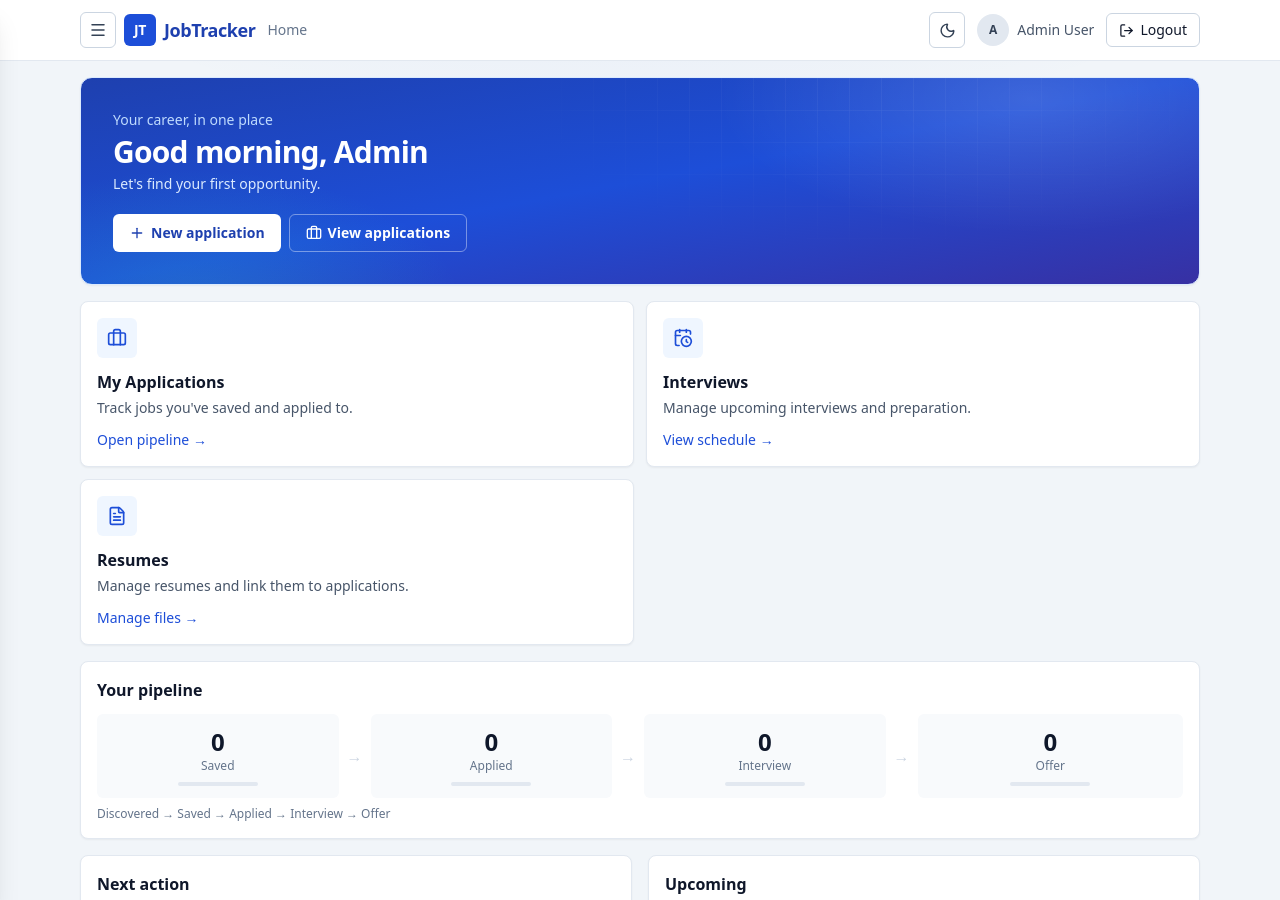
Test: auth-gated routing › offers a theme toggle in the header that persists
Expected: the heading "Good morning, Admin" is shown, [113, 131, 428, 172]
What coordinates should you click on to do the following:
click the button named "Switch to dark theme"
I would click on:
 (947, 30)
Its box is [929, 12, 965, 48].
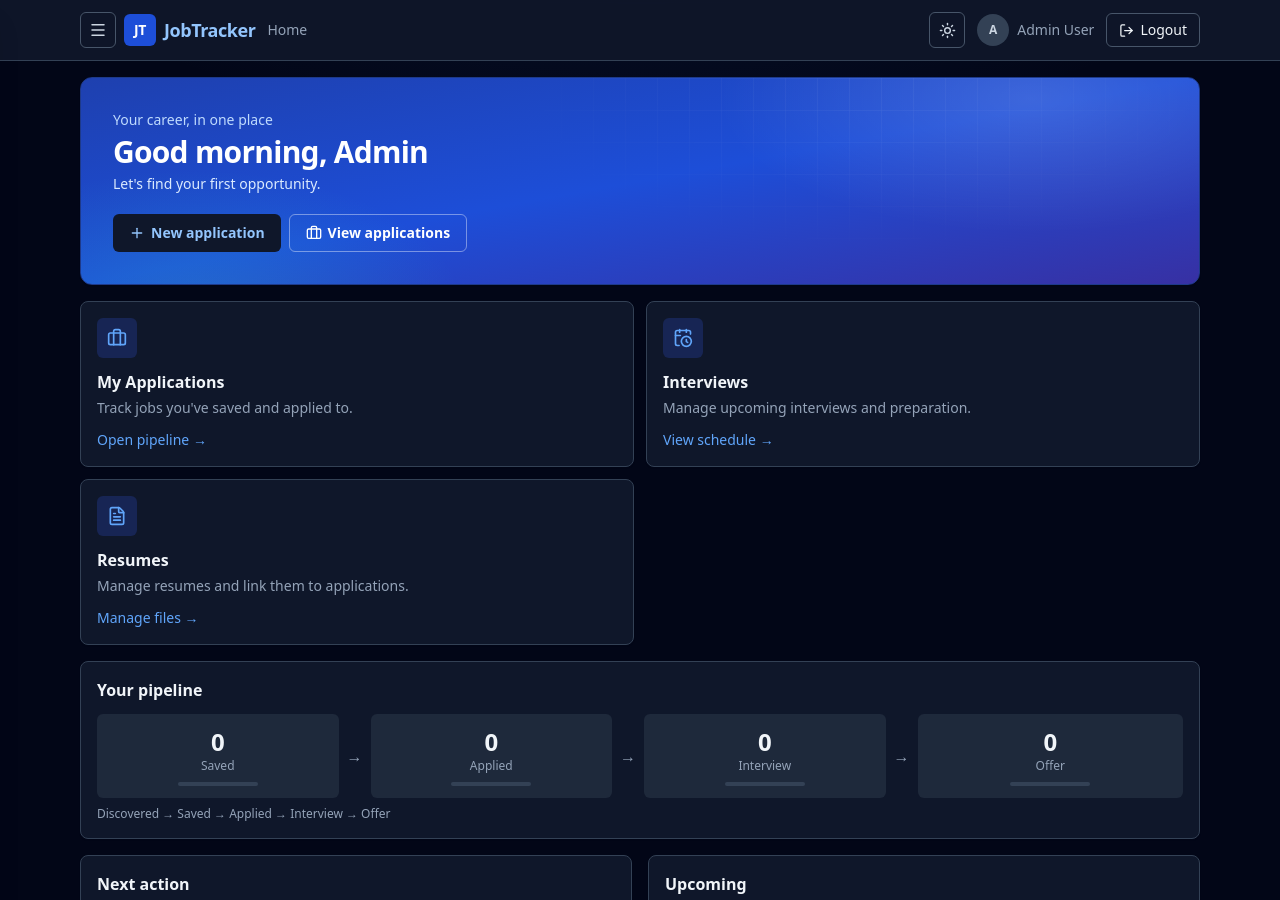
Result: the button named "Switch to light theme" is shown at [929, 12, 965, 48]
